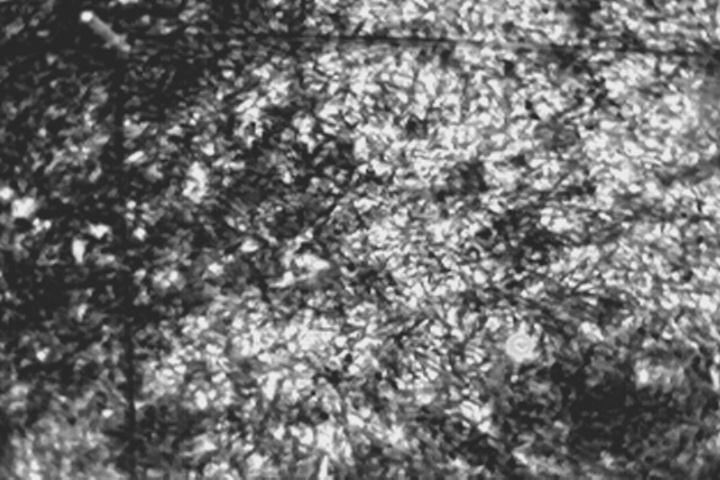landmine: (504, 330, 537, 362)
